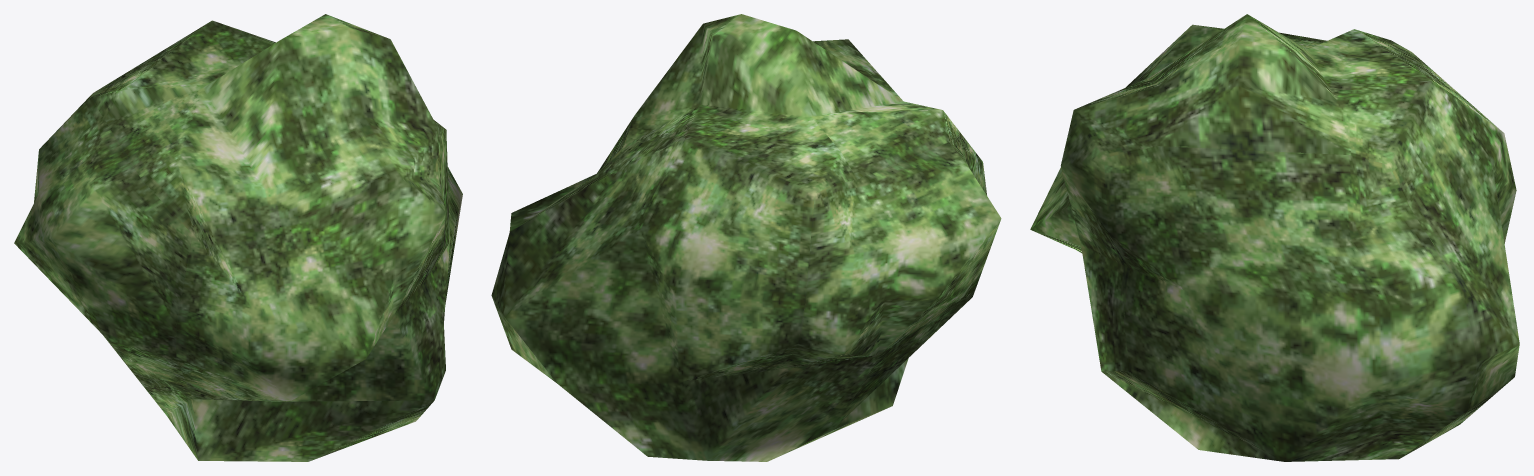
File: asteroid_acid_medium_s02_l2.fbx
The picture shows the model from 3 angles, left to right: view 1: azimuth 30°, elevation 25°; view 2: azimuth 150°, elevation 25°; view 3: azimuth 270°, elevation 25°; orthographic projection. The views are drawn at different scales.
Visible parts, largest first — view 1: mesh_node; view 2: mesh_node; view 3: mesh_node.
Part boxes in pixels (<box>): mesh_node: <box>14,14,462,461</box>; mesh_node: <box>491,14,1001,461</box>; mesh_node: <box>1030,14,1519,461</box>.
Size of the model in its own units: 75.54 by 63.6 by 69.49.
Materials: 1 (1 with a texture image).
